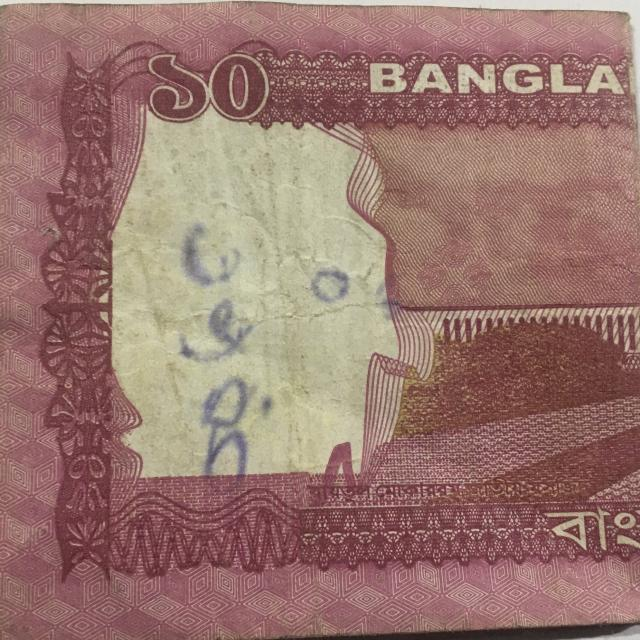Taka: (5, 6, 633, 627)
